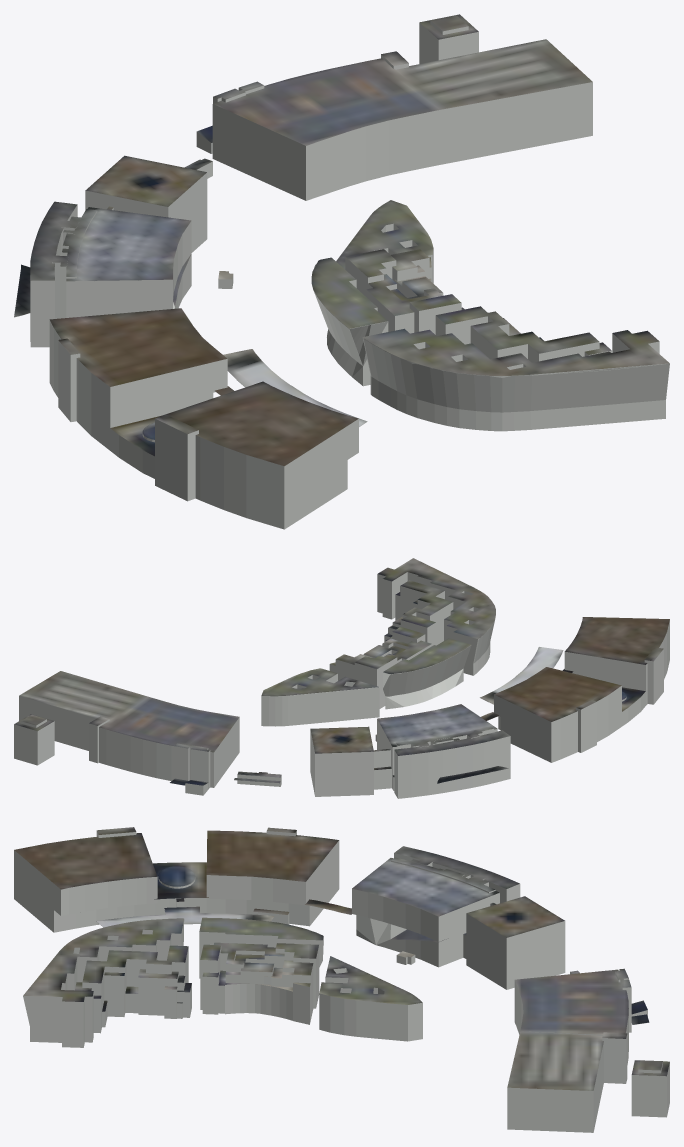
The model's file is LSZH_2_-2.glb.
The picture shows the model from 3 angles, top to bottom: view 1: azimuth 30°, elevation 25°; view 2: azimuth 150°, elevation 25°; view 3: azimuth 270°, elevation 25°; orthographic projection. The views are drawn at different scales.
Visible parts, largest first — view 1: building_edd987860515fbcd, building_8c7693587658d89a, building_1e1881006de5cd97, building_4e267398b0a74864, building_61705df3e74623f4, building_655be696f0776b9e, building_6616e9e6401e31d3, building_6e7123f623751352, building_8b70adceda396465; view 2: building_8c7693587658d89a, building_edd987860515fbcd, building_1e1881006de5cd97, building_61705df3e74623f4, building_6616e9e6401e31d3, building_4e267398b0a74864, building_655be696f0776b9e, building_6afc6ca3b0be9142, building_6e7123f623751352, building_8b70adceda396465, building_e5579dff9d001065, building_6bcc88c1ed5007d9; view 3: building_8c7693587658d89a, building_edd987860515fbcd, building_61705df3e74623f4, building_655be696f0776b9e, building_1e1881006de5cd97, building_6e7123f623751352, building_4e267398b0a74864, building_6616e9e6401e31d3, building_6afc6ca3b0be9142, building_8b70adceda396465.
Boxes of the visible parts, x1,y1,x2,y2 form: building_edd987860515fbcd: [14, 155, 367, 466]; building_8c7693587658d89a: [30, 173, 358, 529]; building_1e1881006de5cd97: [196, 20, 592, 200]; building_4e267398b0a74864: [362, 306, 669, 412]; building_61705df3e74623f4: [196, 14, 592, 146]; building_655be696f0776b9e: [363, 316, 669, 431]; building_6616e9e6401e31d3: [311, 249, 464, 365]; building_6e7123f623751352: [327, 257, 461, 386]; building_8b70adceda396465: [336, 200, 433, 269]; building_8c7693587658d89a: [310, 620, 669, 798]; building_edd987860515fbcd: [310, 617, 669, 783]; building_1e1881006de5cd97: [14, 684, 239, 795]; building_61705df3e74623f4: [14, 671, 239, 785]; building_6616e9e6401e31d3: [330, 627, 471, 696]; building_4e267398b0a74864: [378, 558, 495, 657]; building_655be696f0776b9e: [377, 572, 495, 675]; building_6afc6ca3b0be9142: [261, 674, 379, 726]; building_6e7123f623751352: [329, 632, 463, 709]; building_8b70adceda396465: [261, 668, 379, 696]; building_e5579dff9d001065: [170, 771, 281, 785]; building_6bcc88c1ed5007d9: [237, 774, 281, 786]; building_8c7693587658d89a: [14, 830, 565, 989]; building_edd987860515fbcd: [14, 827, 564, 937]; building_61705df3e74623f4: [507, 968, 669, 1091]; building_655be696f0776b9e: [23, 919, 191, 1047]; building_1e1881006de5cd97: [507, 970, 669, 1132]; building_6e7123f623751352: [199, 932, 322, 1024]; building_4e267398b0a74864: [23, 918, 191, 1011]; building_6616e9e6401e31d3: [199, 917, 323, 991]; building_6afc6ca3b0be9142: [319, 968, 422, 1041]; building_8b70adceda396465: [319, 956, 422, 1005].
Bounding box in the file's own units: 503 × 47.51 × 535.
2 materials, 1 textured.
